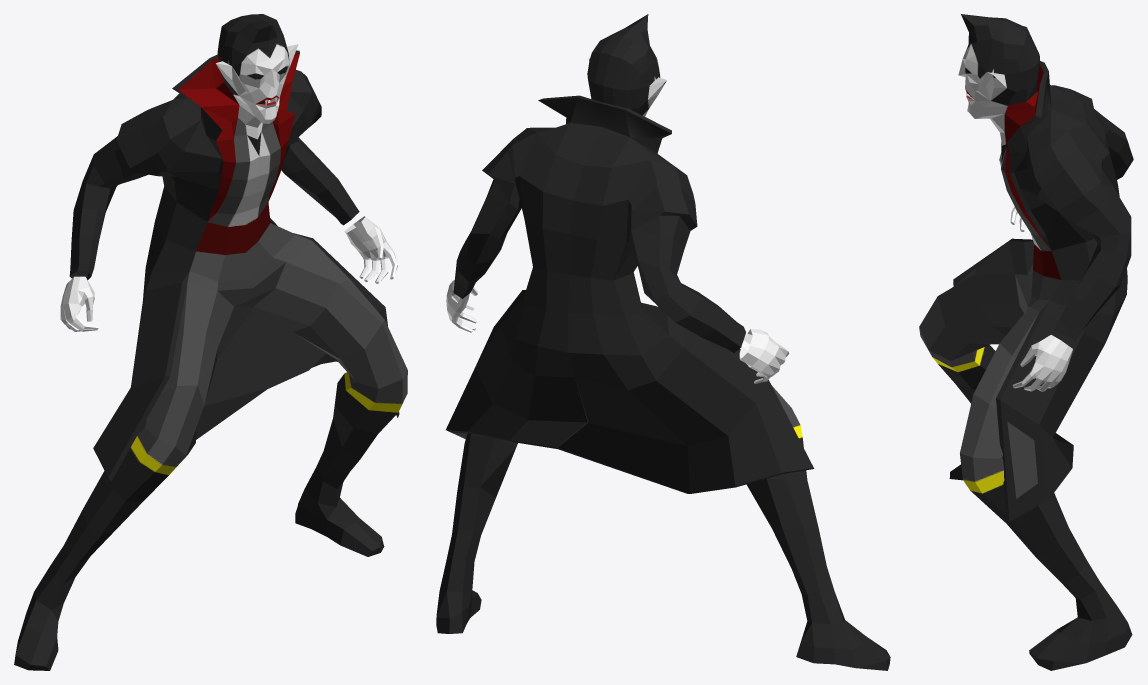
The model's file is VampireAttack(103).obj.
3 renders of one model, left to right at view 1: azimuth 30°, elevation 25°; view 2: azimuth 150°, elevation 25°; view 3: azimuth 270°, elevation 25°, orthographic. The views are drawn at different scales.
Parts seen in each view (by area): view 1: Plane002; view 2: Plane002; view 3: Plane002.
Part boxes in pixels (x1,y1,x2,y2): Plane002: [14, 14, 407, 670]; Plane002: [436, 14, 890, 670]; Plane002: [919, 14, 1133, 670].
Bounding box in the file's own units: 208 × 289 × 96.84.
